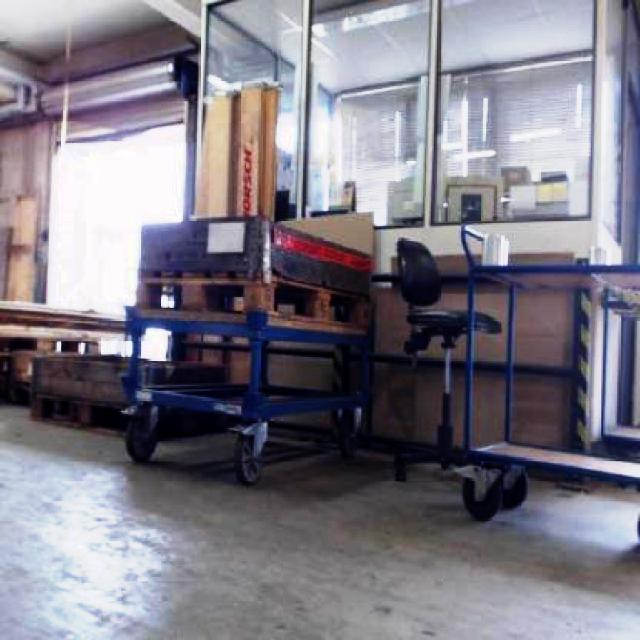ground: (0, 386, 638, 638)
pallet: (0, 218, 638, 563), (117, 211, 375, 483), (454, 245, 638, 552), (371, 246, 580, 469), (0, 112, 55, 400), (26, 351, 226, 429), (0, 294, 129, 405), (191, 80, 282, 220)
